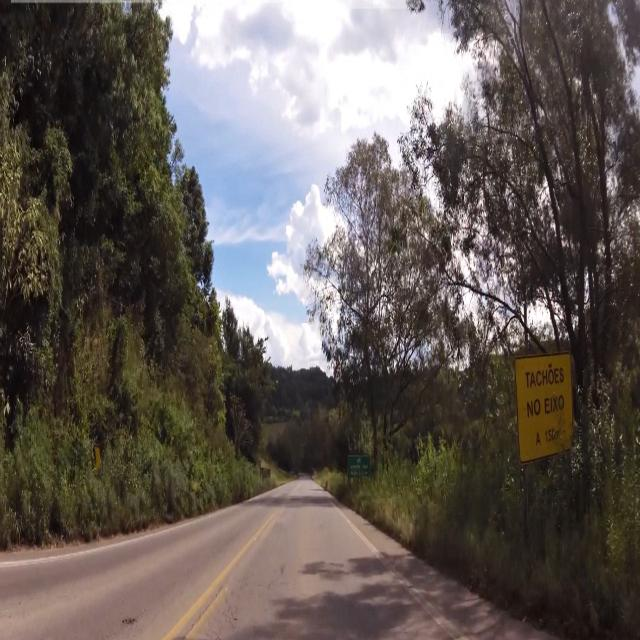I-4: (348, 456, 370, 480)
